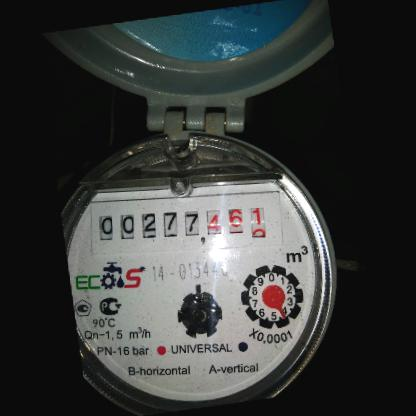digital_screen: (86, 193, 204, 258)
